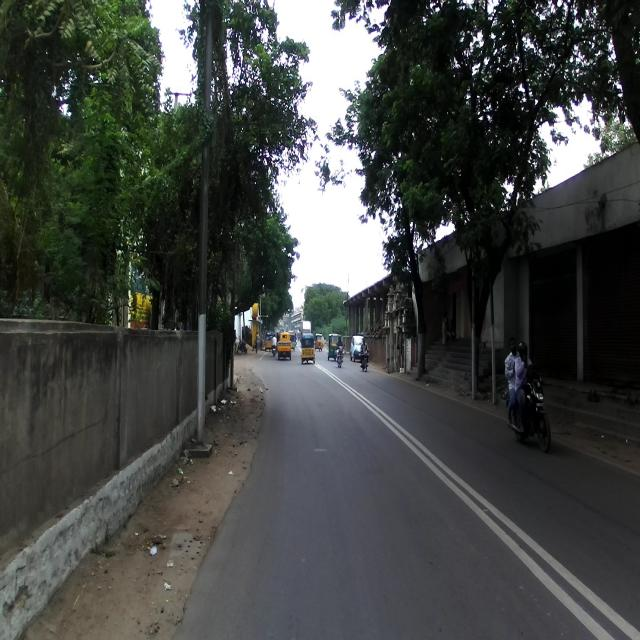motorcycle_Honda: (500, 372, 550, 455)
